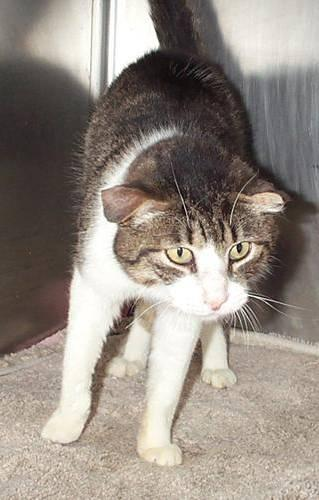cat: (42, 47, 290, 464)
